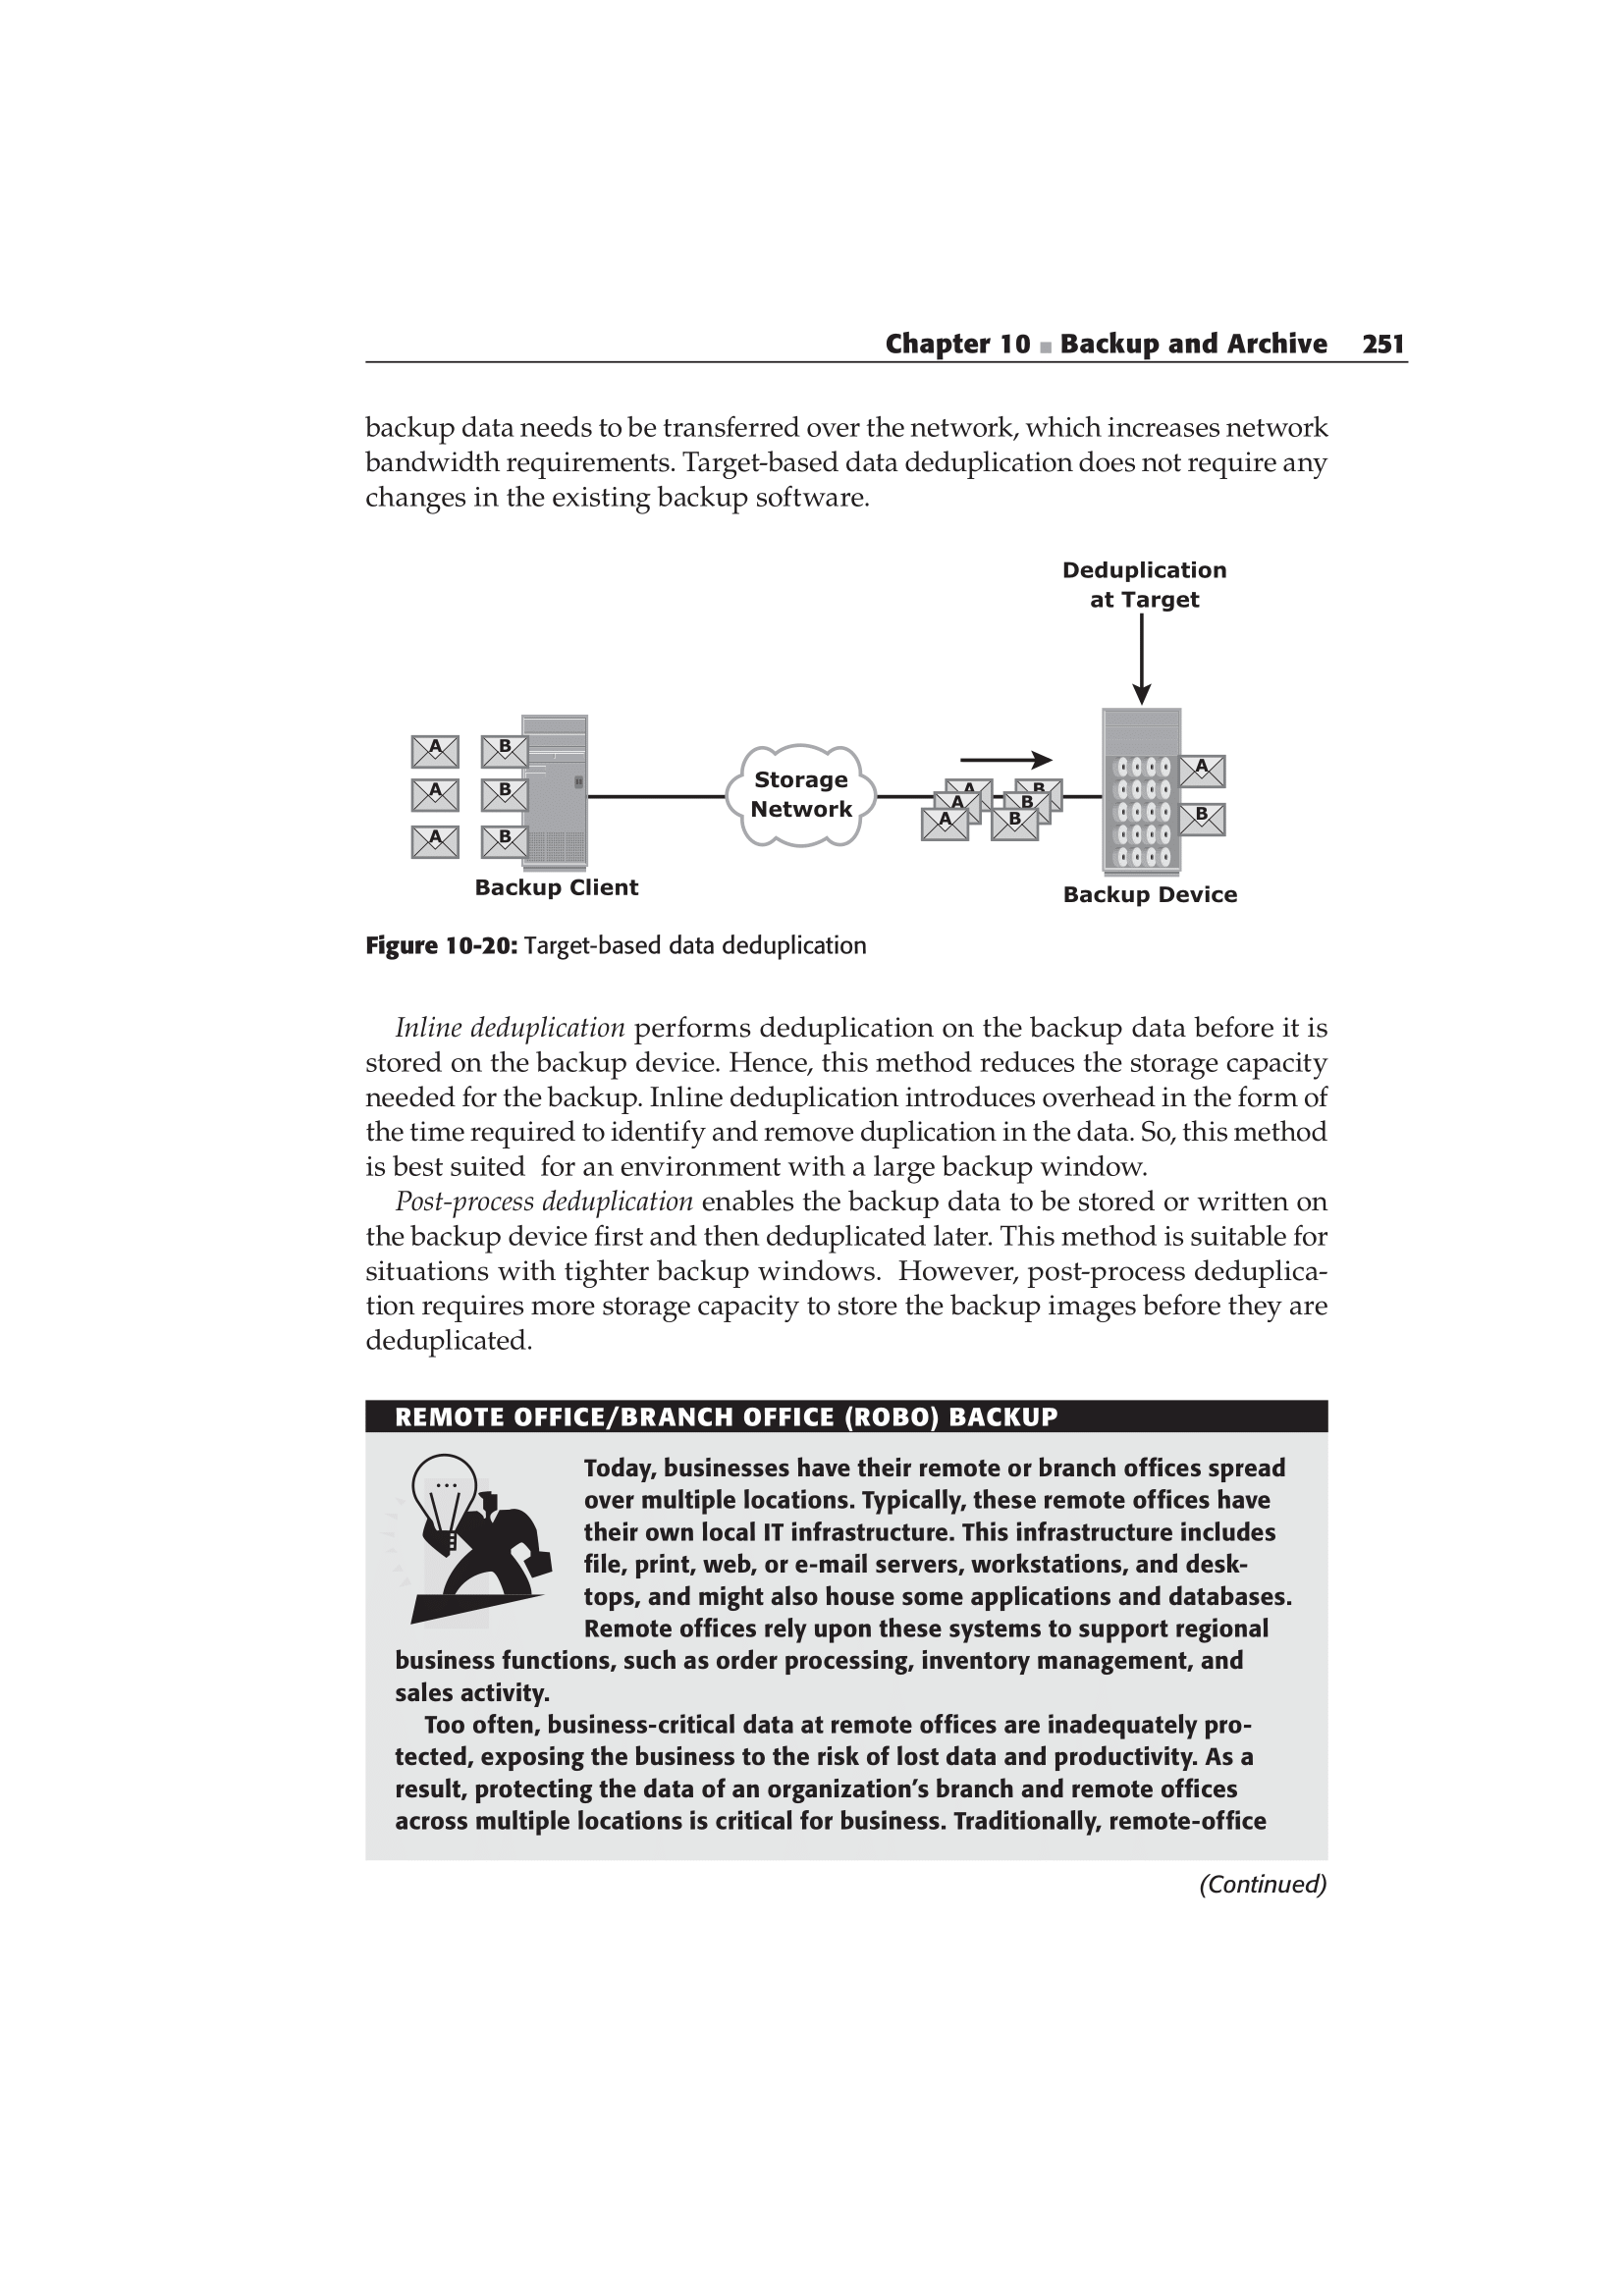Image: (371, 542, 1296, 972), (397, 1446, 557, 1625)
Paragraph: (371, 1629, 1293, 1845), (371, 999, 1333, 1183), (365, 1192, 1333, 1360), (566, 1438, 1316, 1648), (325, 388, 1338, 530), (882, 311, 1410, 370)
